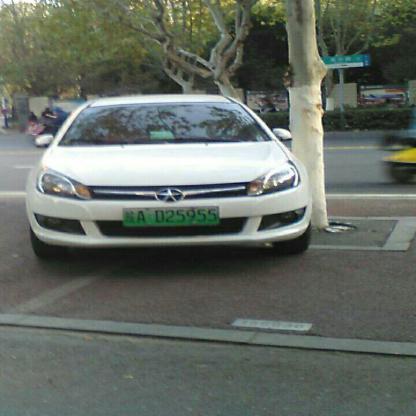lp: (122, 206, 219, 227)
